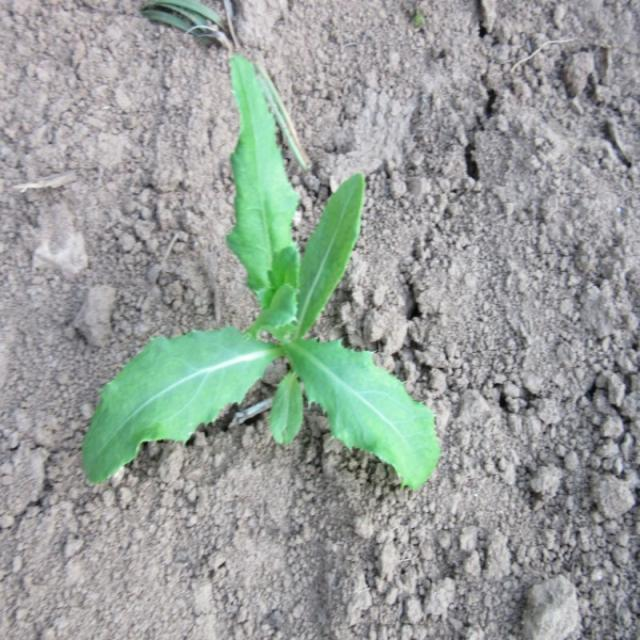cs: (78, 51, 442, 491)
